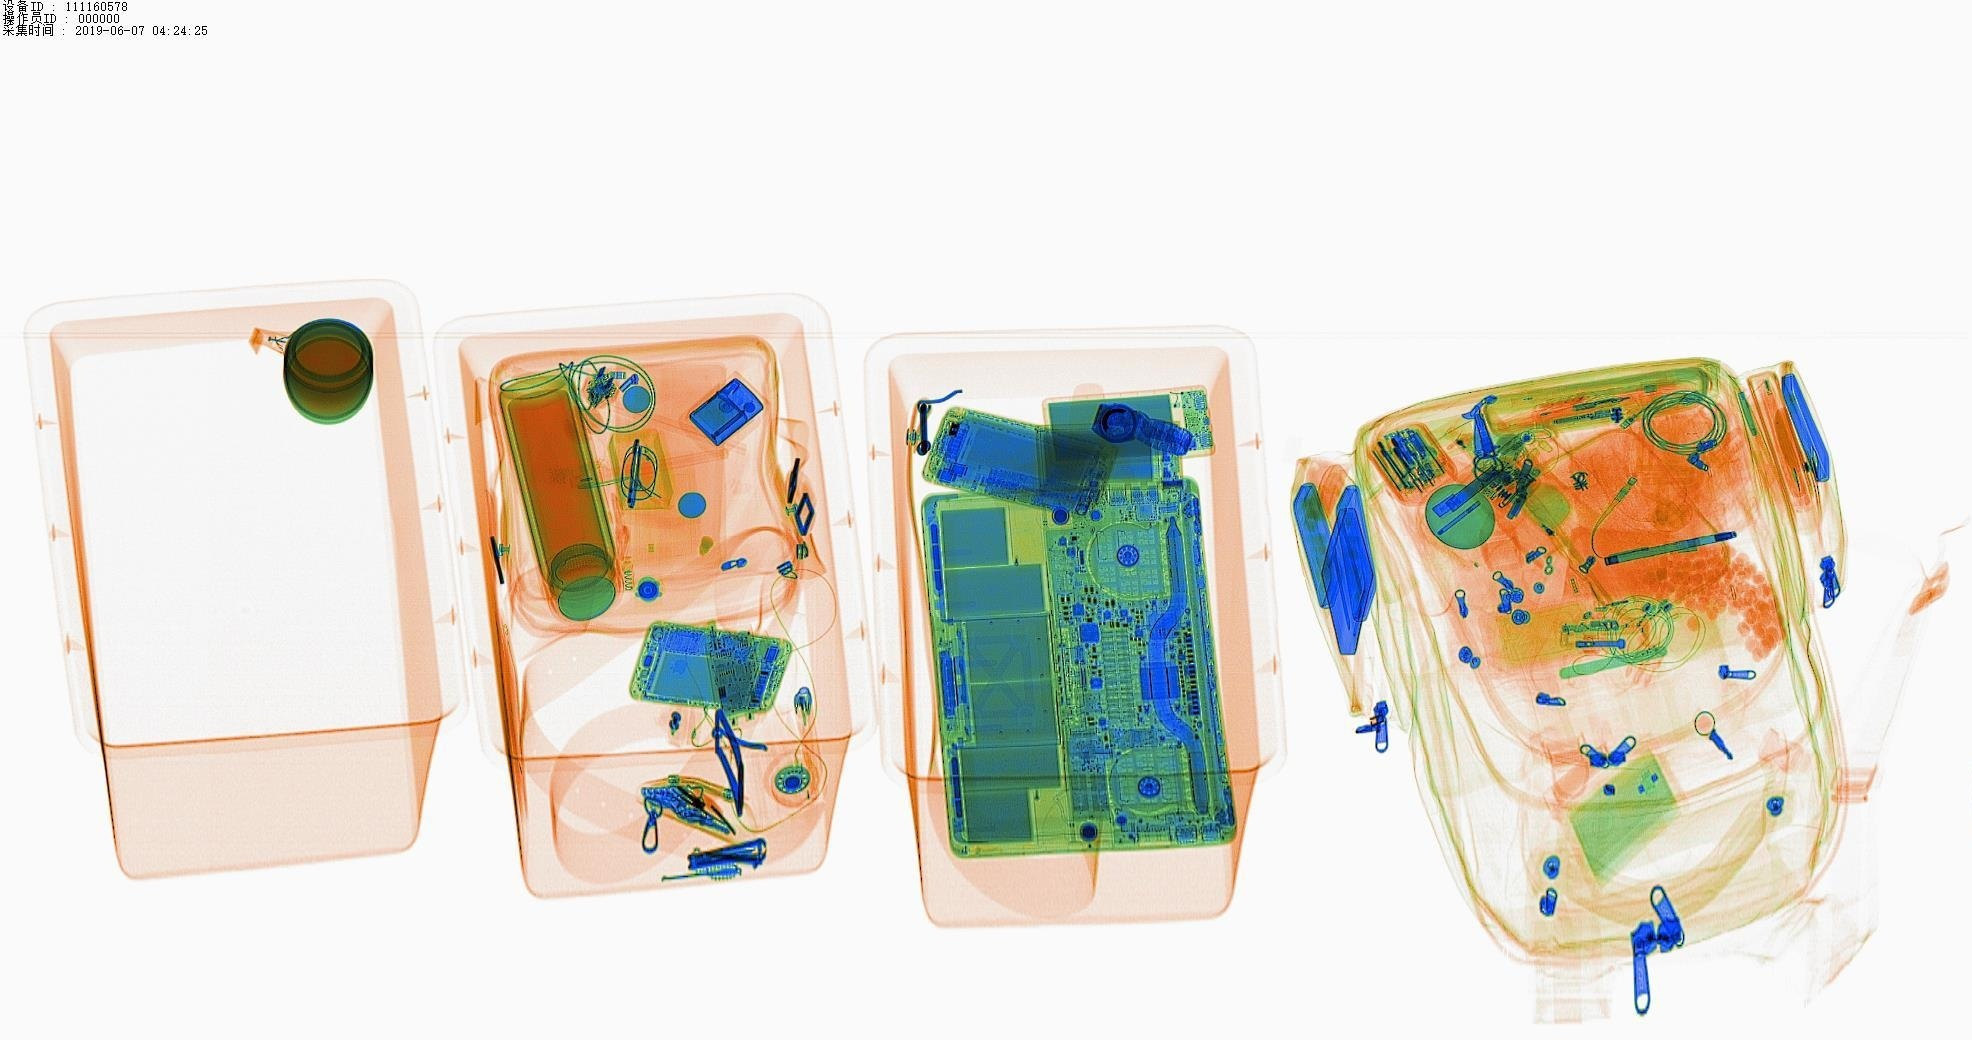NonmetallicFire: (779, 677, 862, 838)
